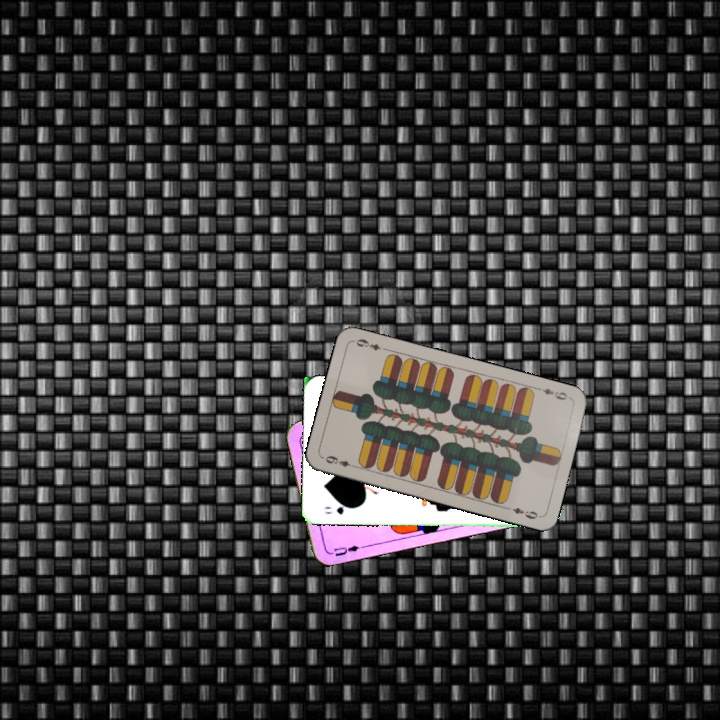E9: (533, 384, 573, 403), (321, 451, 359, 470)
EU: (325, 541, 366, 559)
GO: (320, 500, 357, 517)
